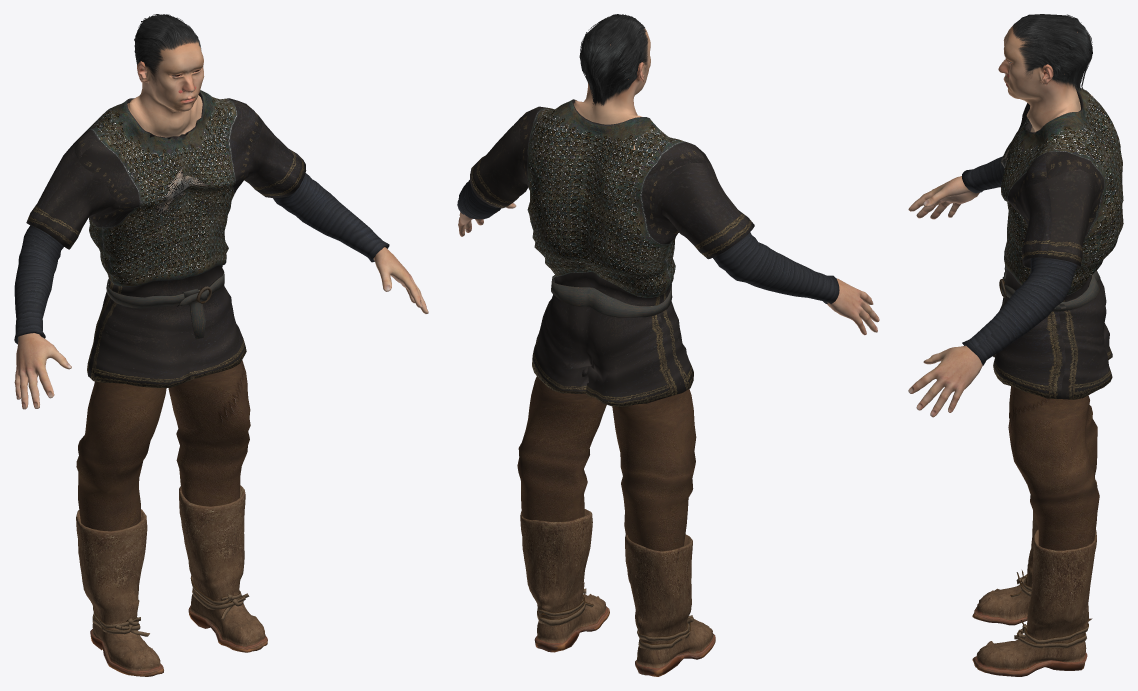
Rendered from control-kest.glb.
The picture shows the model from 3 angles, left to right: view 1: azimuth 30°, elevation 25°; view 2: azimuth 150°, elevation 25°; view 3: azimuth 270°, elevation 25°; orthographic projection.
Visible parts, largest first — view 1: control-kest runtime mesh; view 2: control-kest runtime mesh; view 3: control-kest runtime mesh.
Boxes of the visible parts, bbox=[...] form: control-kest runtime mesh: bbox=[14, 14, 428, 676]; control-kest runtime mesh: bbox=[457, 14, 879, 676]; control-kest runtime mesh: bbox=[908, 14, 1123, 676].
Bounding box in the file's own units: 1.26 × 1.85 × 0.5772.
6 materials, 6 textured.
